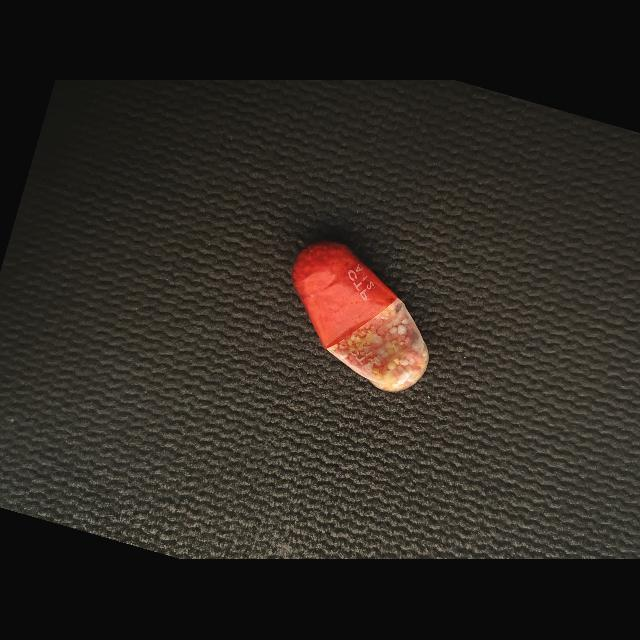Defective Capsule: (292, 243, 429, 392)
